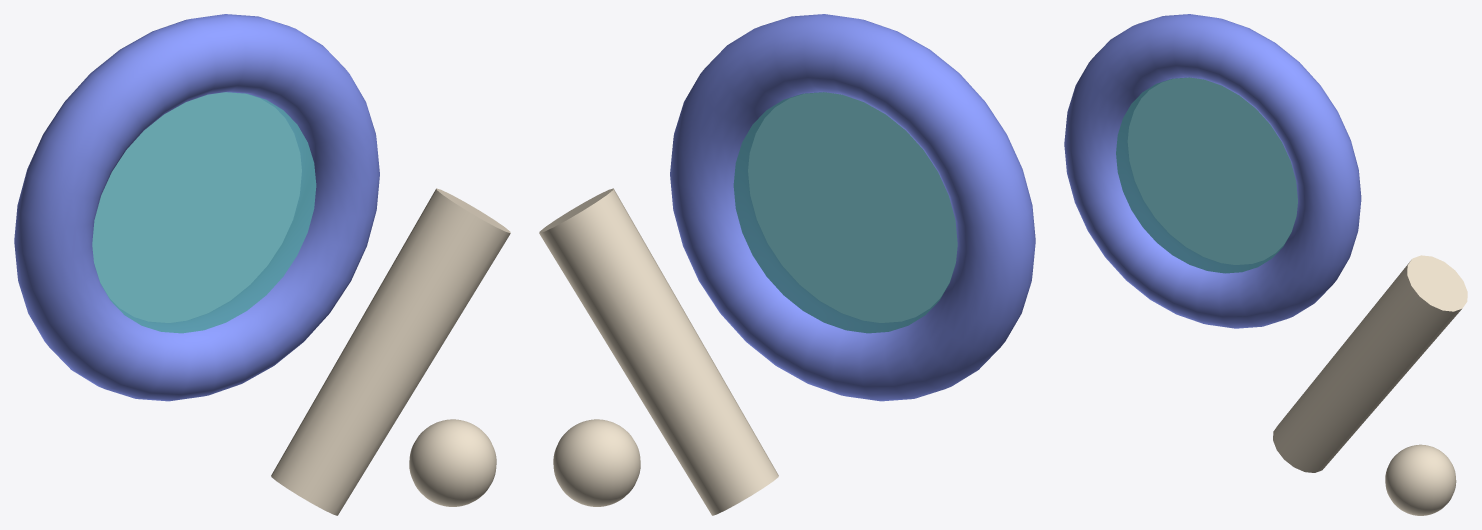
The model's file is search.glb.
3 renders of one model, left to right at view 1: azimuth 30°, elevation 25°; view 2: azimuth 150°, elevation 25°; view 3: azimuth 330°, elevation 25°, orthographic. The views are drawn at different scales.
Bounding box in the file's own units: 1.26 × 1.35 × 0.1973.
